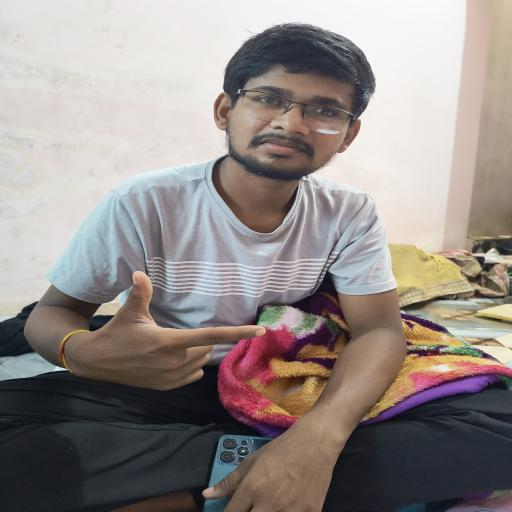OK: (72, 270, 285, 399)
